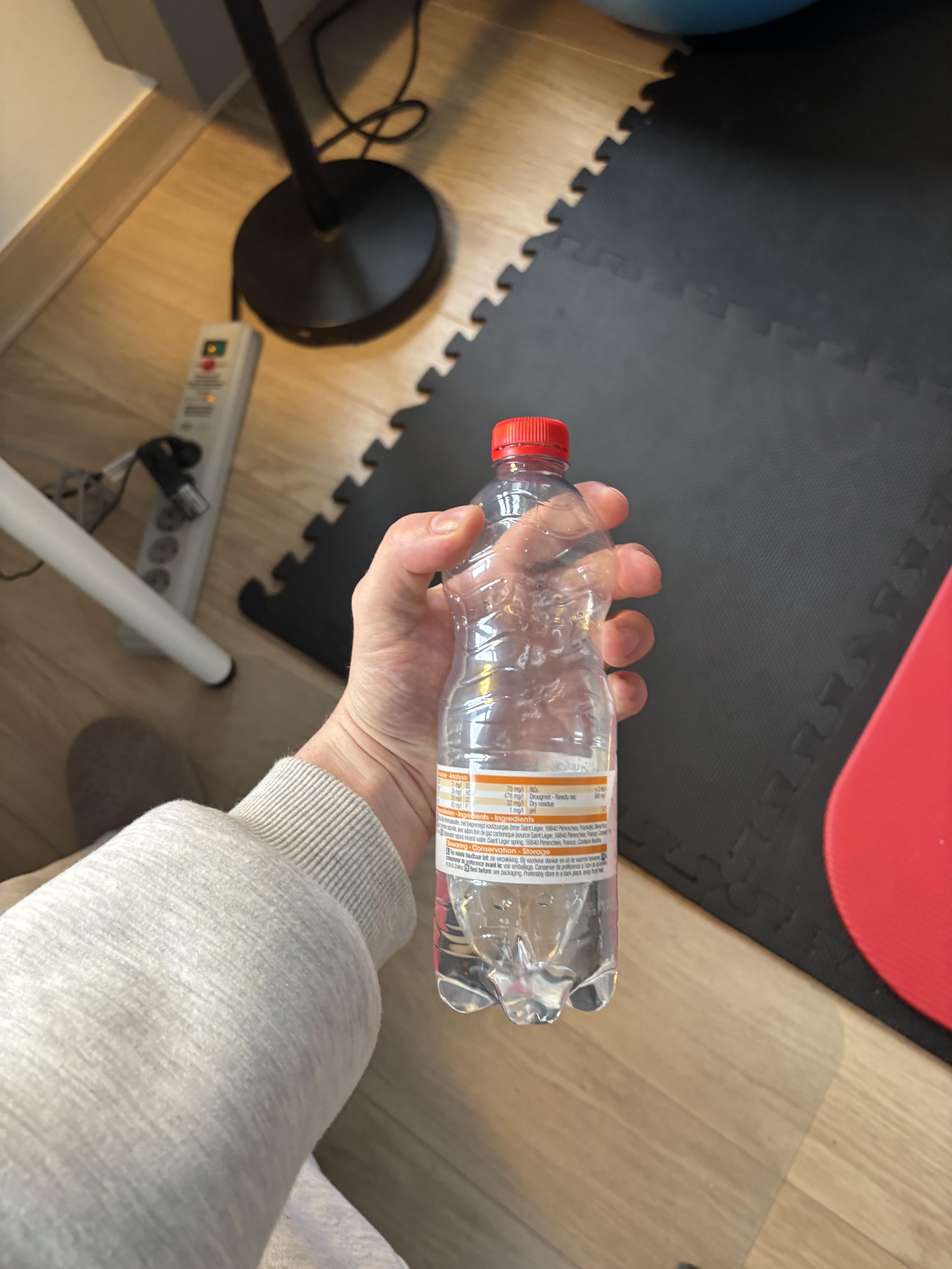Plastic: (429, 406, 627, 1036)
